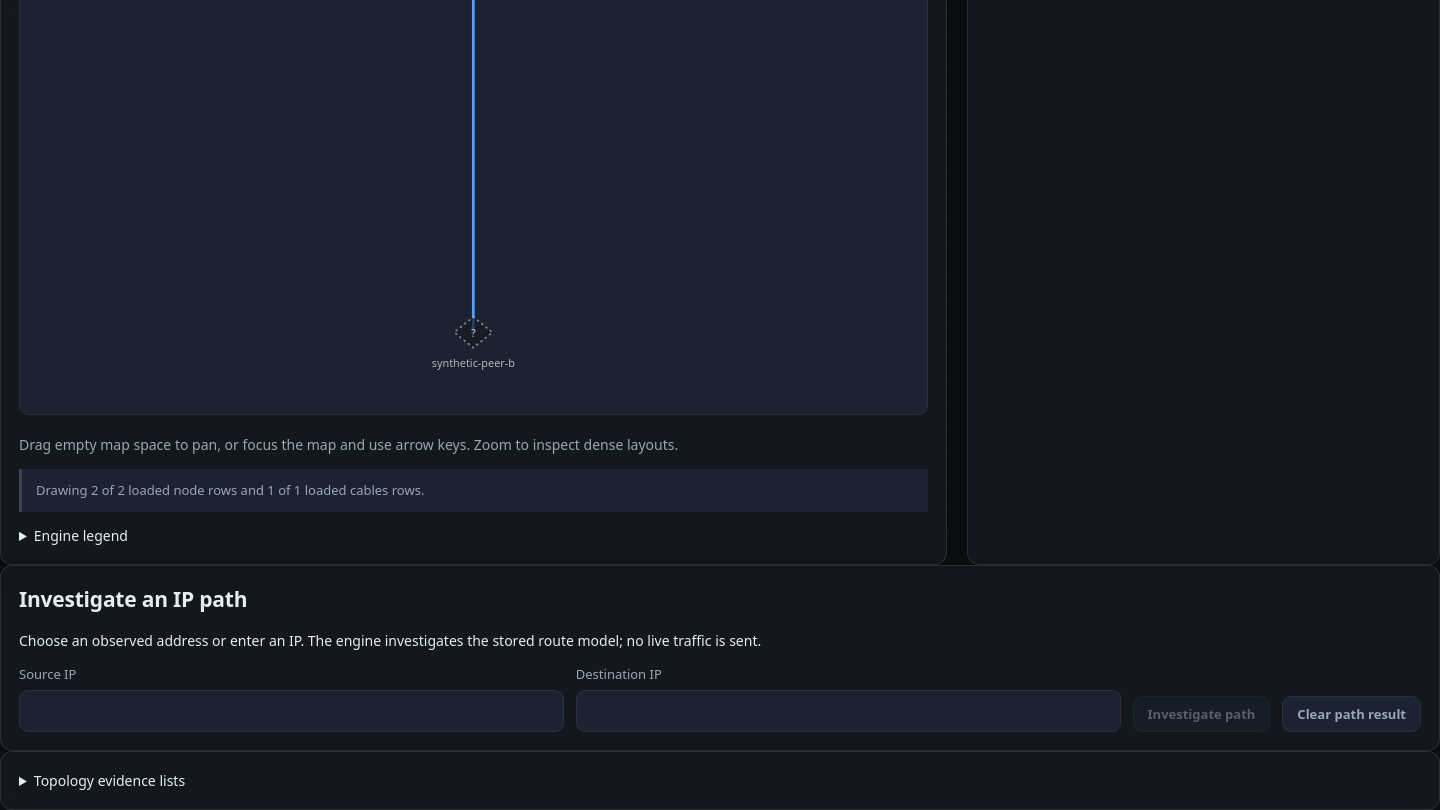
Test: Engine-owned topology and path screen › clears old path highlights immediately on input change and rejects late old responses
The image size is (1440, 810).
(page scrolled)
Type "192.0.2.10" into the field labelled "Source IP". click: (291, 712)
box: [19, 690, 564, 732]
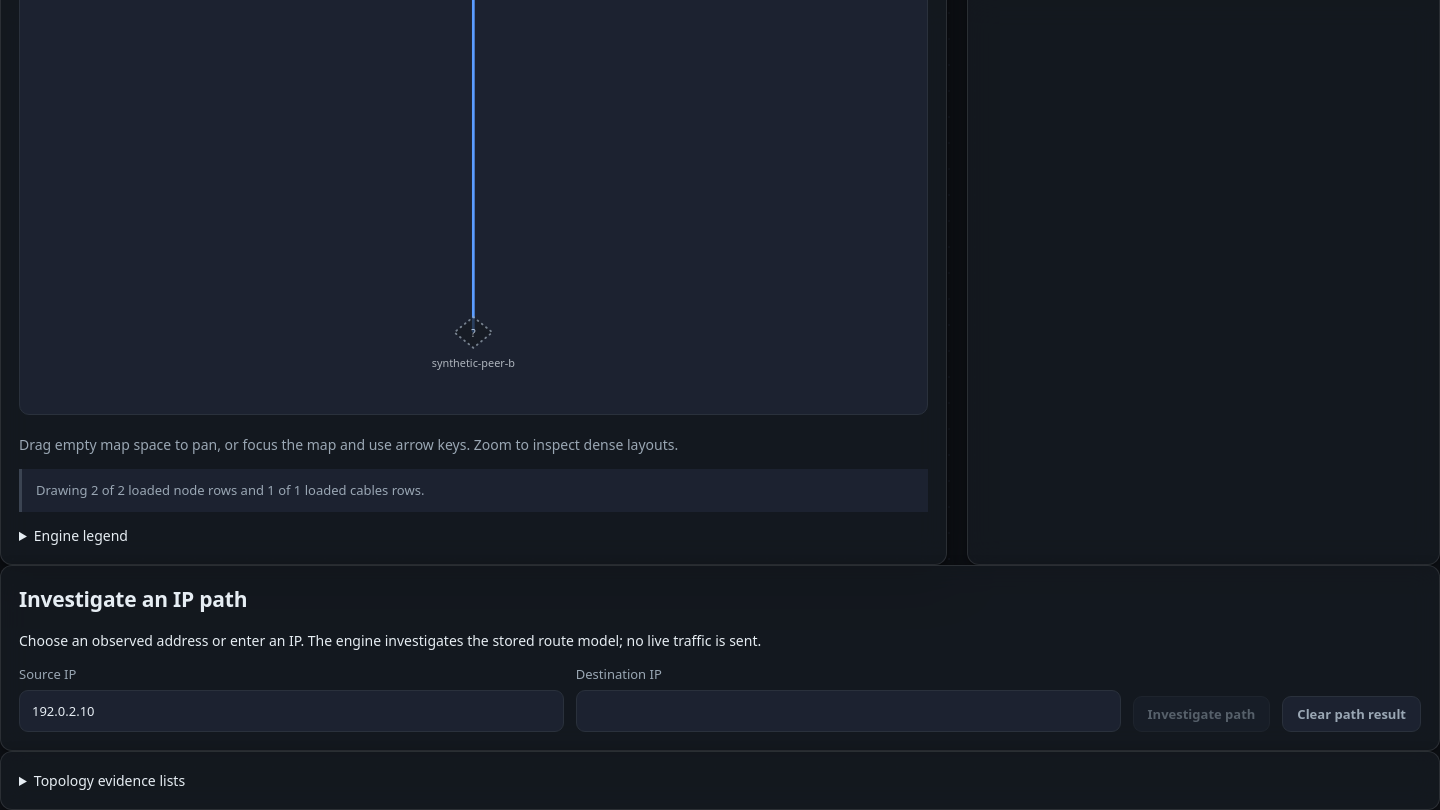
Type "198.51.100.10" into the field labelled "Destination IP". click: (848, 712)
box: [576, 690, 1121, 732]
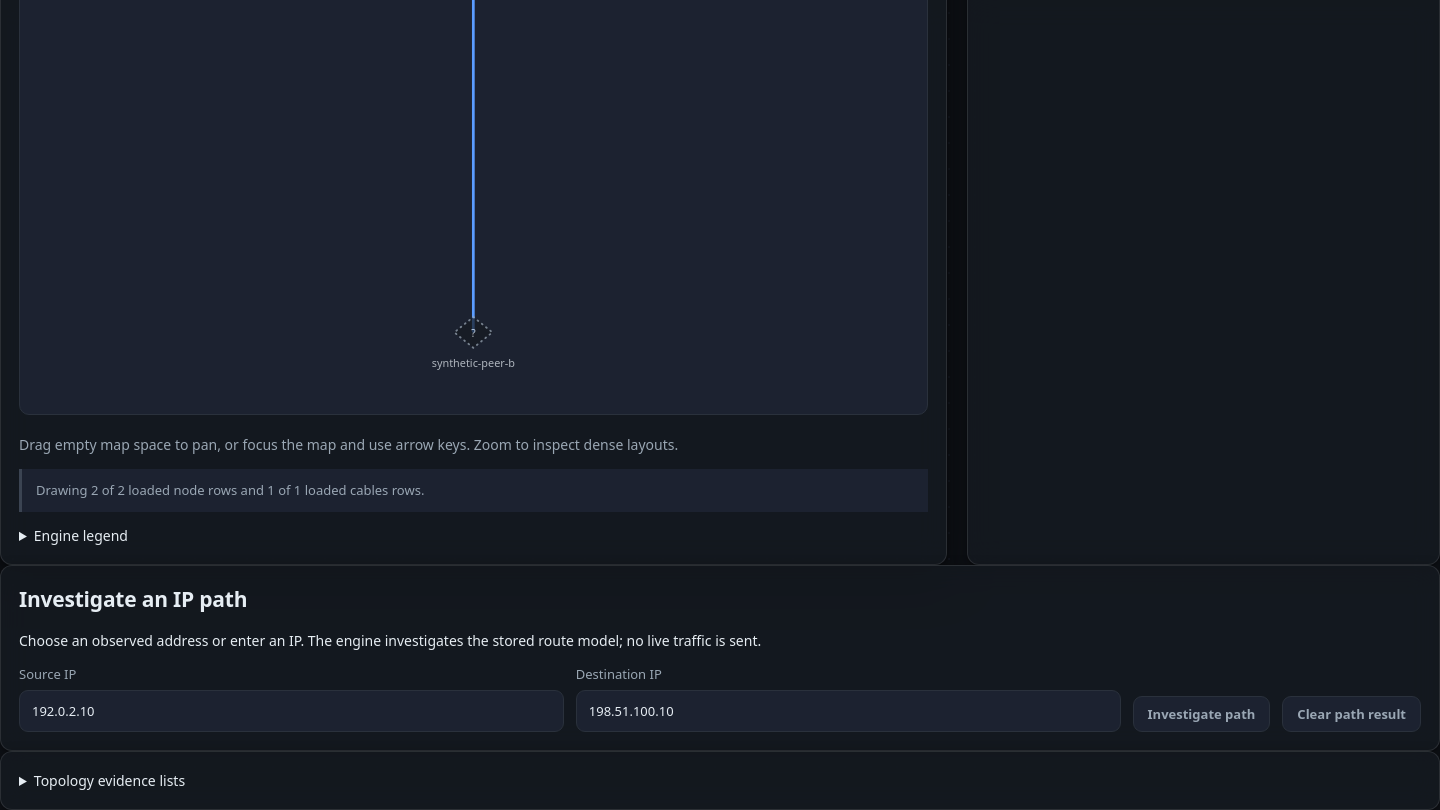
Click the button "Investigate path". click: click(1202, 714)
box: [1133, 696, 1270, 732]
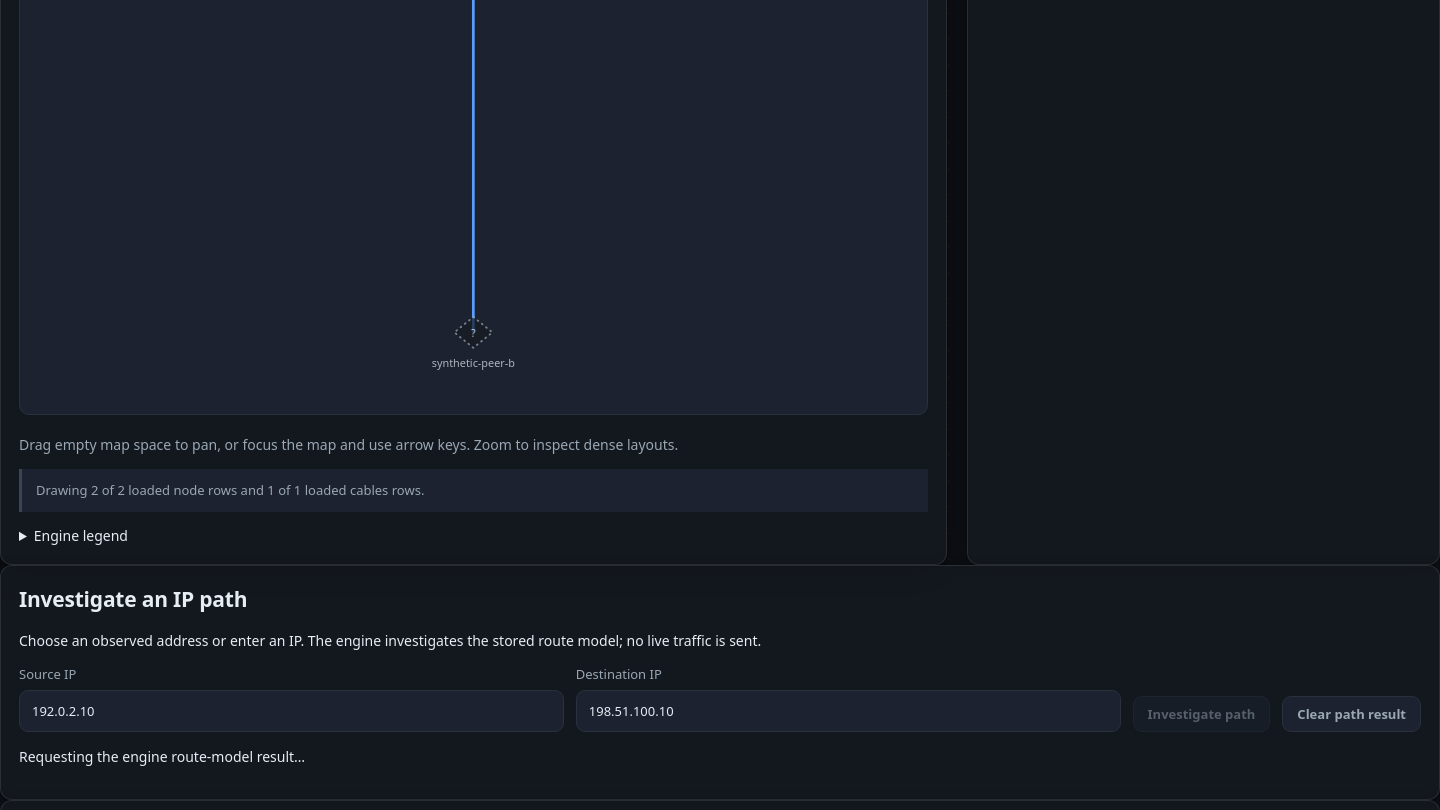
Replace the text in the field labelled "Destination IP" with "203.0.113.10". click: (848, 712)
box: [576, 690, 1121, 732]
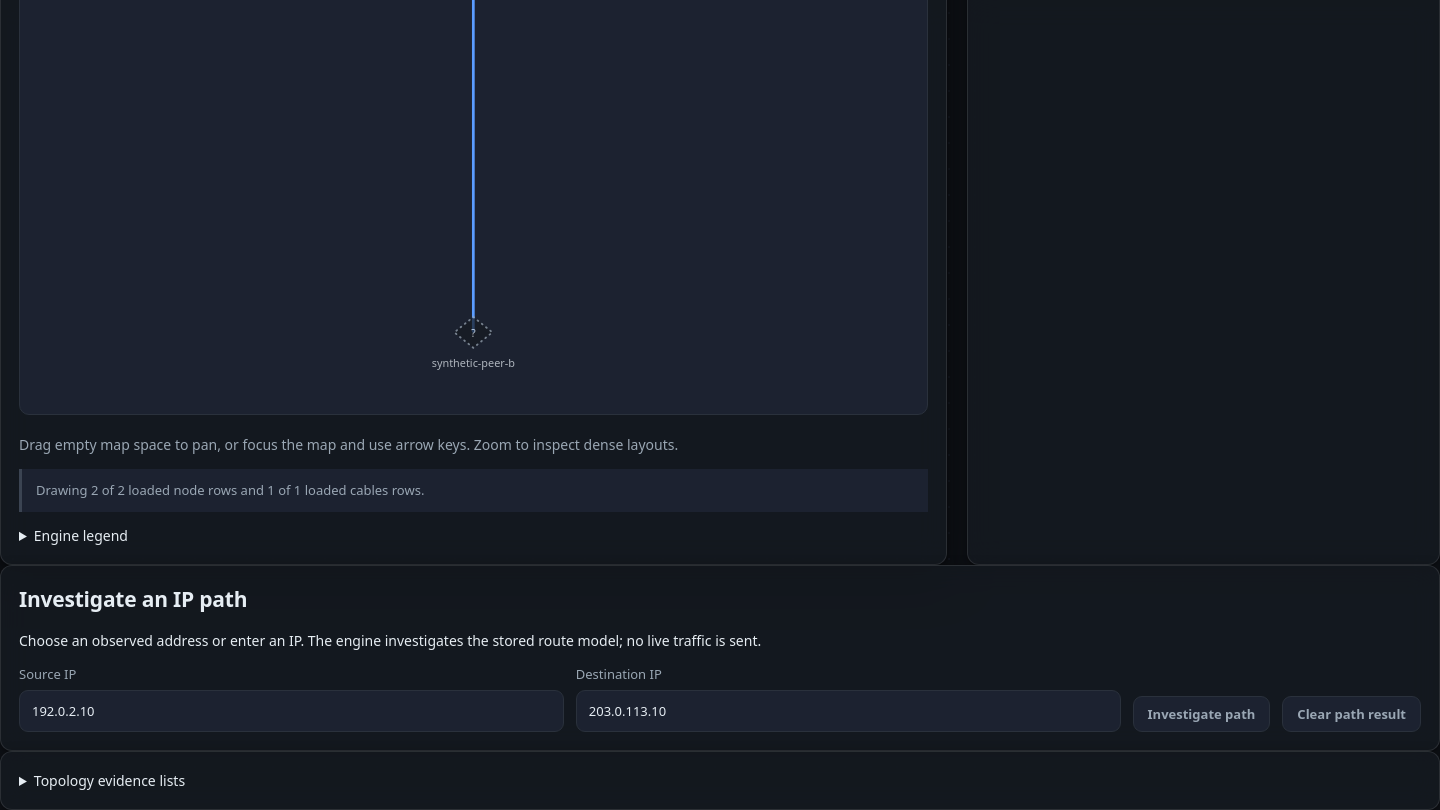
Now the message "route-model result" is gone
Now the button "Investigate path" is enabled, box [1133, 696, 1270, 732]
